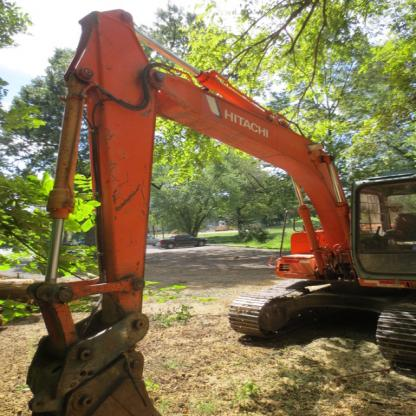excavator: (12, 6, 415, 416)
